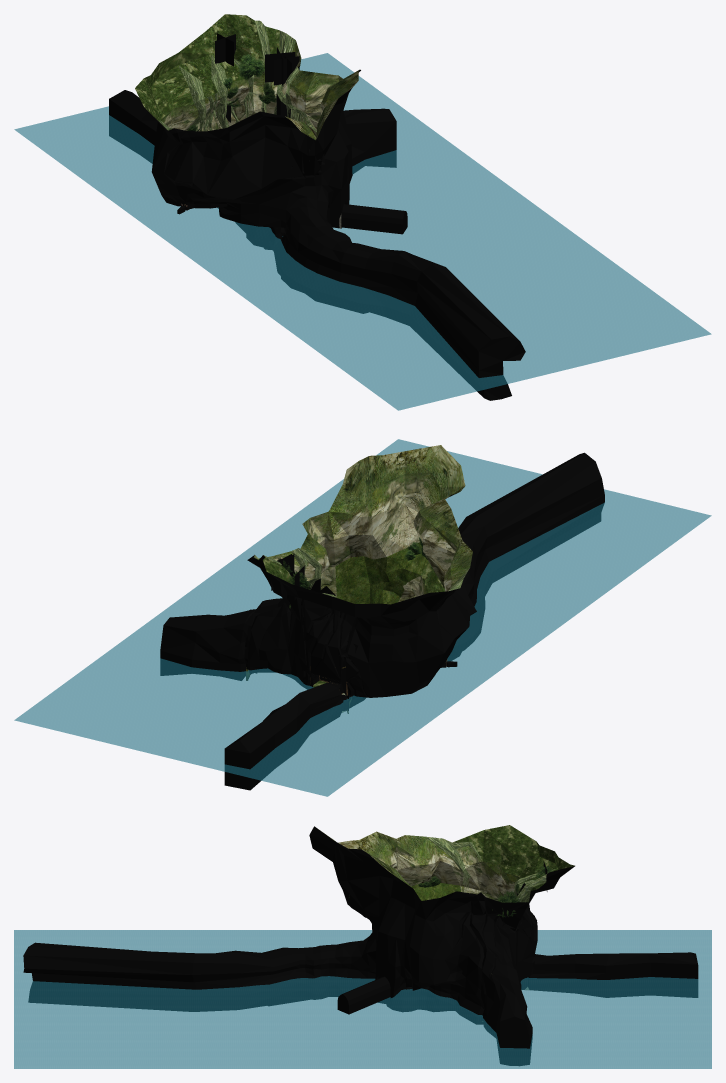
The model's file is big cave.glb.
3 renders of one model, top to bottom at view 1: azimuth 30°, elevation 25°; view 2: azimuth 150°, elevation 25°; view 3: azimuth 270°, elevation 25°, orthographic. The views are drawn at different scales.
Visible parts, largest first — view 1: object 2, skp23E8; view 2: skp23E8, object 2; view 3: object 2, skp23E8.
Part boxes in pixels (box(x1,y1,x2,y2)): object 2: box(14, 53, 711, 410); skp23E8: box(109, 14, 525, 400); skp23E8: box(160, 445, 604, 790); object 2: box(14, 439, 711, 796); object 2: box(14, 930, 711, 1068); skp23E8: box(23, 825, 698, 1065).
Size of the model in its own units: 1994 by 1185 by 4232.
Materials: 24 (24 with a texture image).
